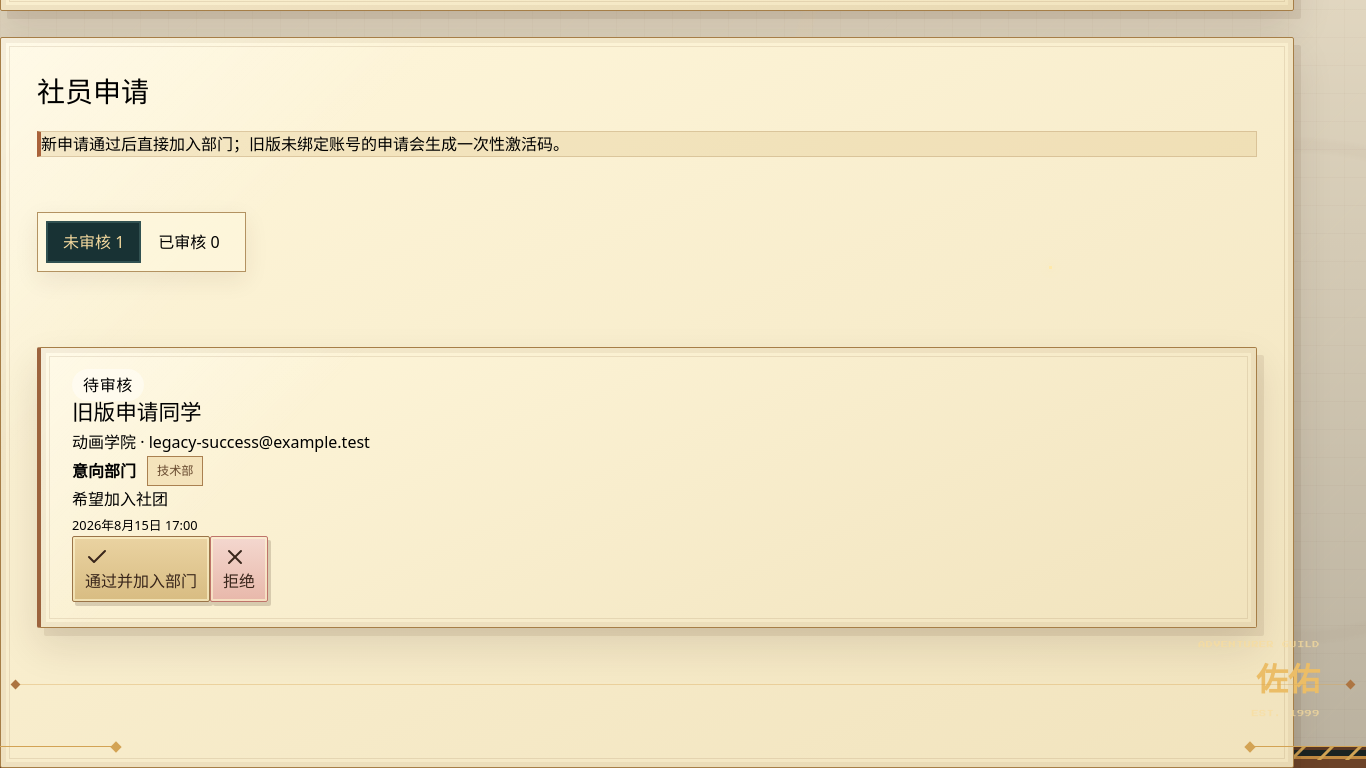
Test: Adventurer Guild app › keeps a legacy applicant activation code visible after approval
This screenshot has width=1366, height=768.
(page scrolled)
Click the button "通过并加入部门" at (141, 569), box [72,536,210,602]
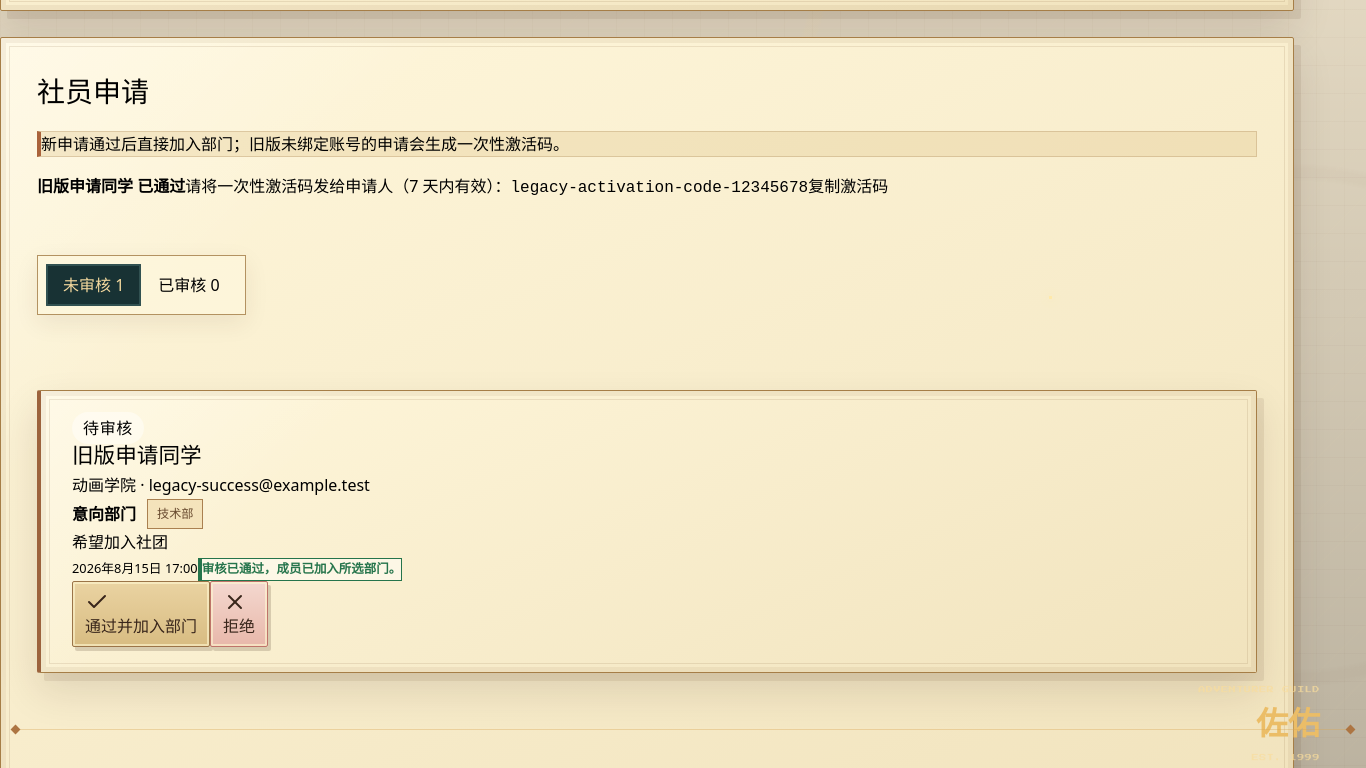
Check: the text "legacy-activation-code-12345678" is shown, box [510,179,808,197]
Check: the text "请将一次性激活码发给申请人（7 天内有效）：" is shown, box [185,175,510,197]
